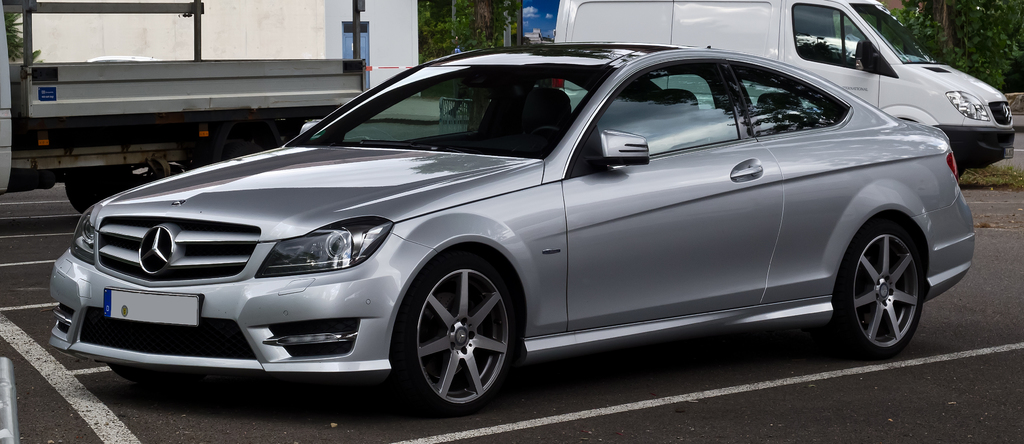mobil: (53, 39, 1000, 425)
